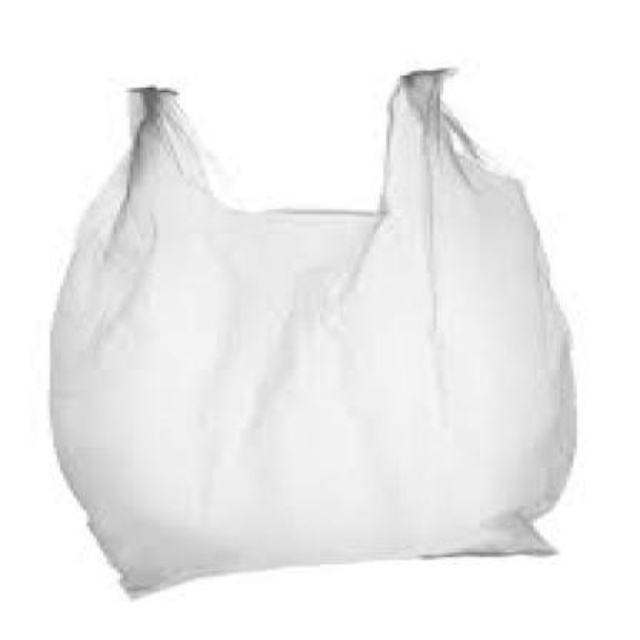trash: (51, 71, 574, 591)
